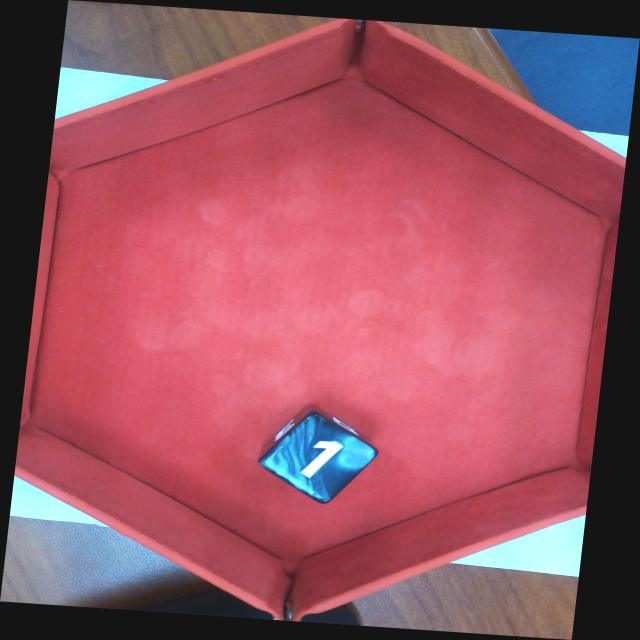dice: (262, 414, 379, 499)
